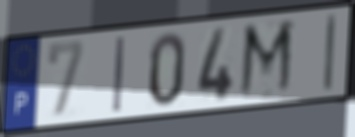0: (147, 29, 189, 110)
4: (195, 24, 237, 104)
7: (44, 37, 89, 122)
I: (321, 11, 338, 95), (111, 34, 127, 115)
M: (236, 17, 297, 102)
